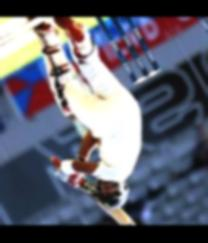batsman: (1, 18, 184, 226)
